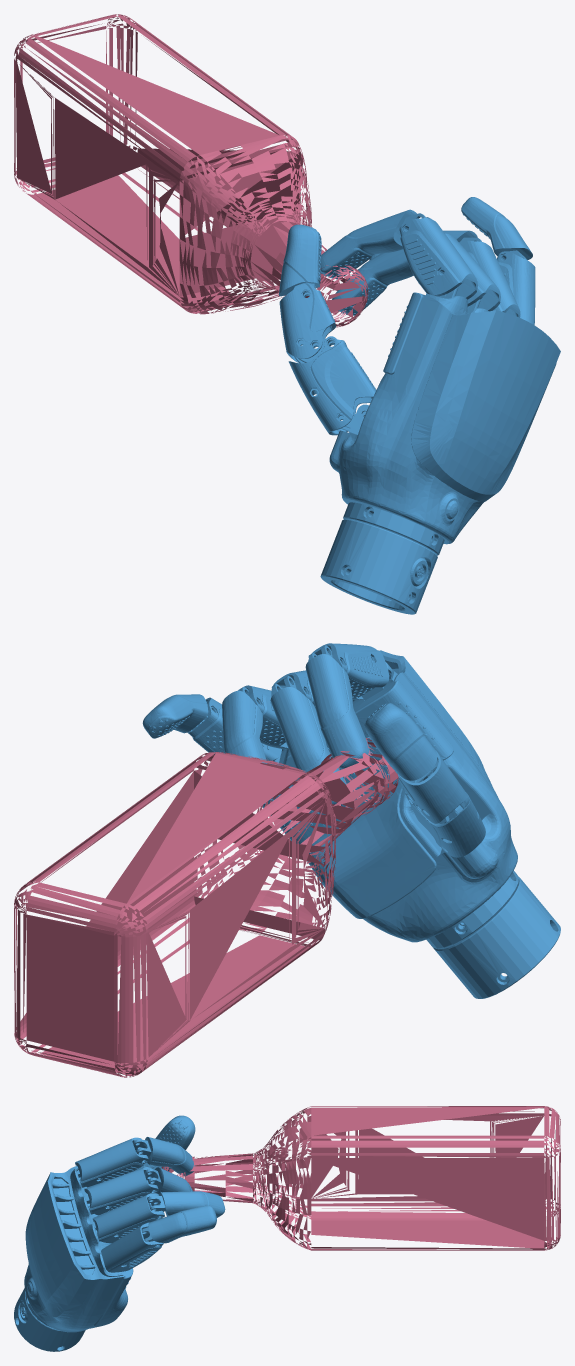
3 views of the same model, one above another, from view 1: azimuth 30°, elevation 25°; view 2: azimuth 150°, elevation 25°; view 3: azimuth 270°, elevation 25° (orthographic). The views are drawn at different scales.
Parts seen in each view (by area): view 1: 3; view 2: 3; view 3: 3.
Boxes of the visible parts, <box> form: 3: <box>14,14,560,614</box>; 3: <box>14,643,560,1077</box>; 3: <box>14,1106,560,1351</box>.
Bounding box in the file's own units: 0.1537 × 0.1803 × 0.3706.
